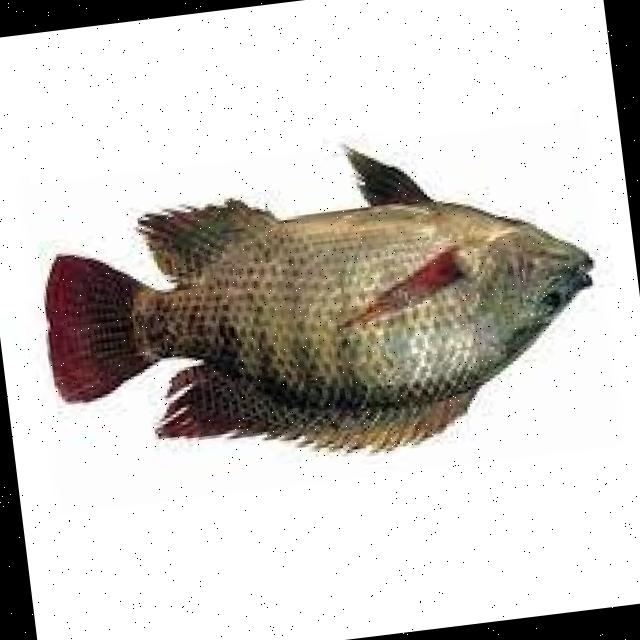ikan: (27, 117, 618, 496)
